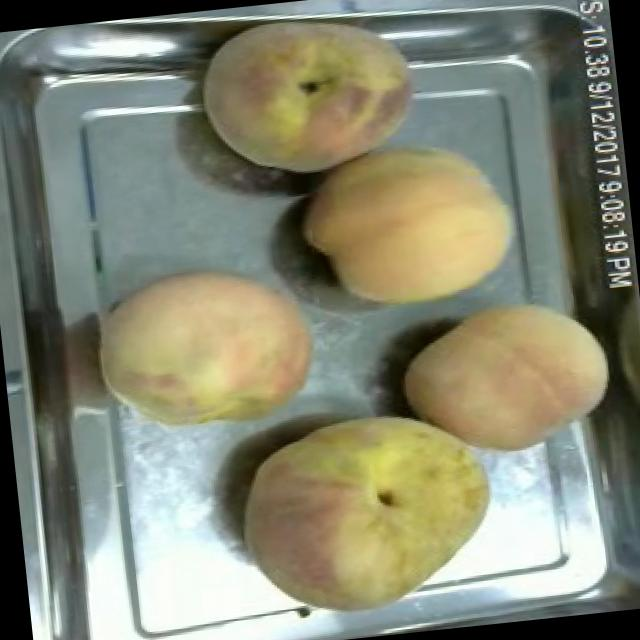Fruit: (220, 388, 512, 640), (282, 123, 532, 330), (86, 248, 331, 450), (182, 1, 432, 196), (384, 280, 630, 472)
